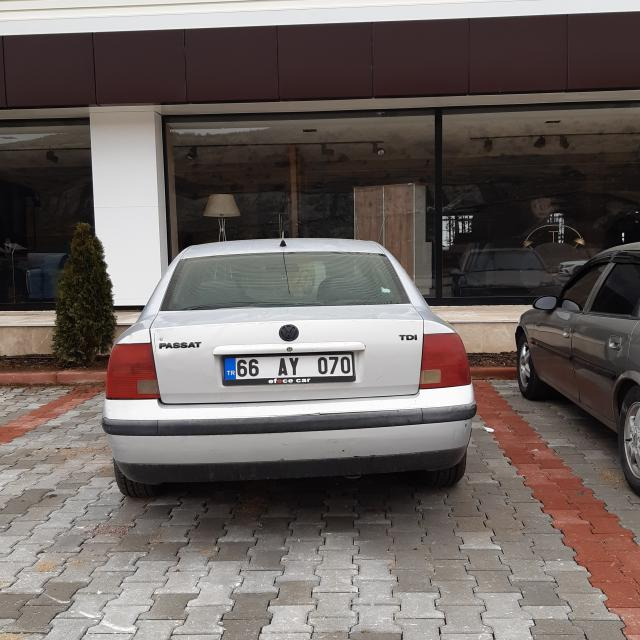license_plate: (224, 353, 354, 379)
